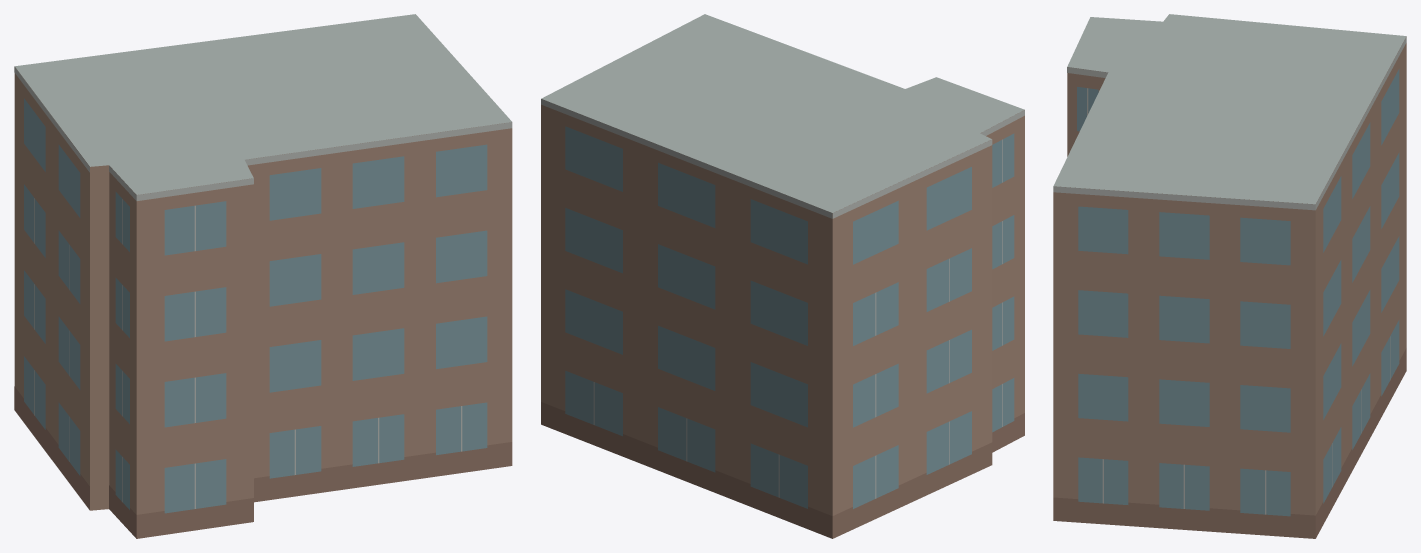
Rendered from survey-upis-32862363.glb.
3 views of the same model, side by side, from view 1: azimuth 30°, elevation 25°; view 2: azimuth 150°, elevation 25°; view 3: azimuth 270°, elevation 25° (orthographic). The views are drawn at different scales.
Visible parts, largest first — view 1: survey-upis-32862363.tmp; view 2: survey-upis-32862363.tmp; view 3: survey-upis-32862363.tmp.
Boxes of the visible parts, box(x1,y1,x2,y2) form: survey-upis-32862363.tmp: box(14, 14, 512, 538); survey-upis-32862363.tmp: box(541, 14, 1024, 538); survey-upis-32862363.tmp: box(1053, 14, 1406, 538).
Size of the model in its own units: 16.48 by 13.5 by 12.93.
